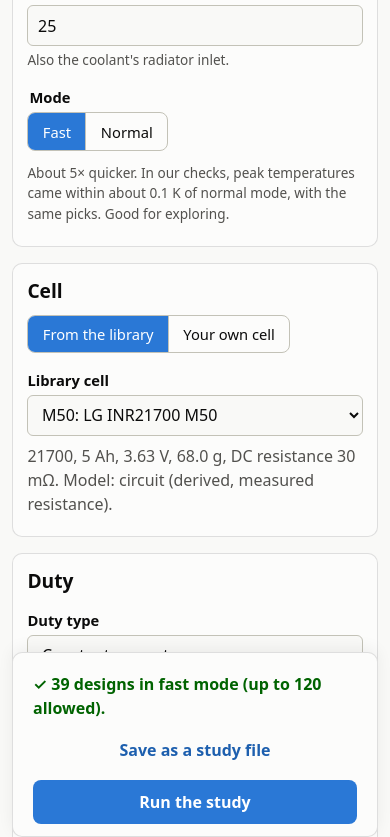
the setup screen › lists comparison-only models apart, and says so when one is chosen
(page scrolled)
Check: the text "✓ 39 designs in fast mode (up to 120 allowed)." is shown, box [33,672,357,720]
Check: the element "For comparison only (not for design)" does not show "M50:"
Select "M50-LUMPED: LG INR21700 M50 (lumped DCIR)" in the dropdown labelled "Library cell". click: point(195, 416)
box: [27,395,363,436]
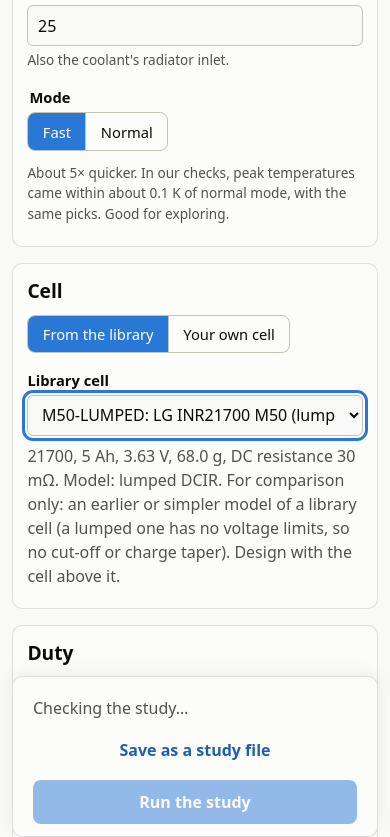
Check: the text "For comparison only: an earlier or simpler model" is shown, box [27,469,357,587]
